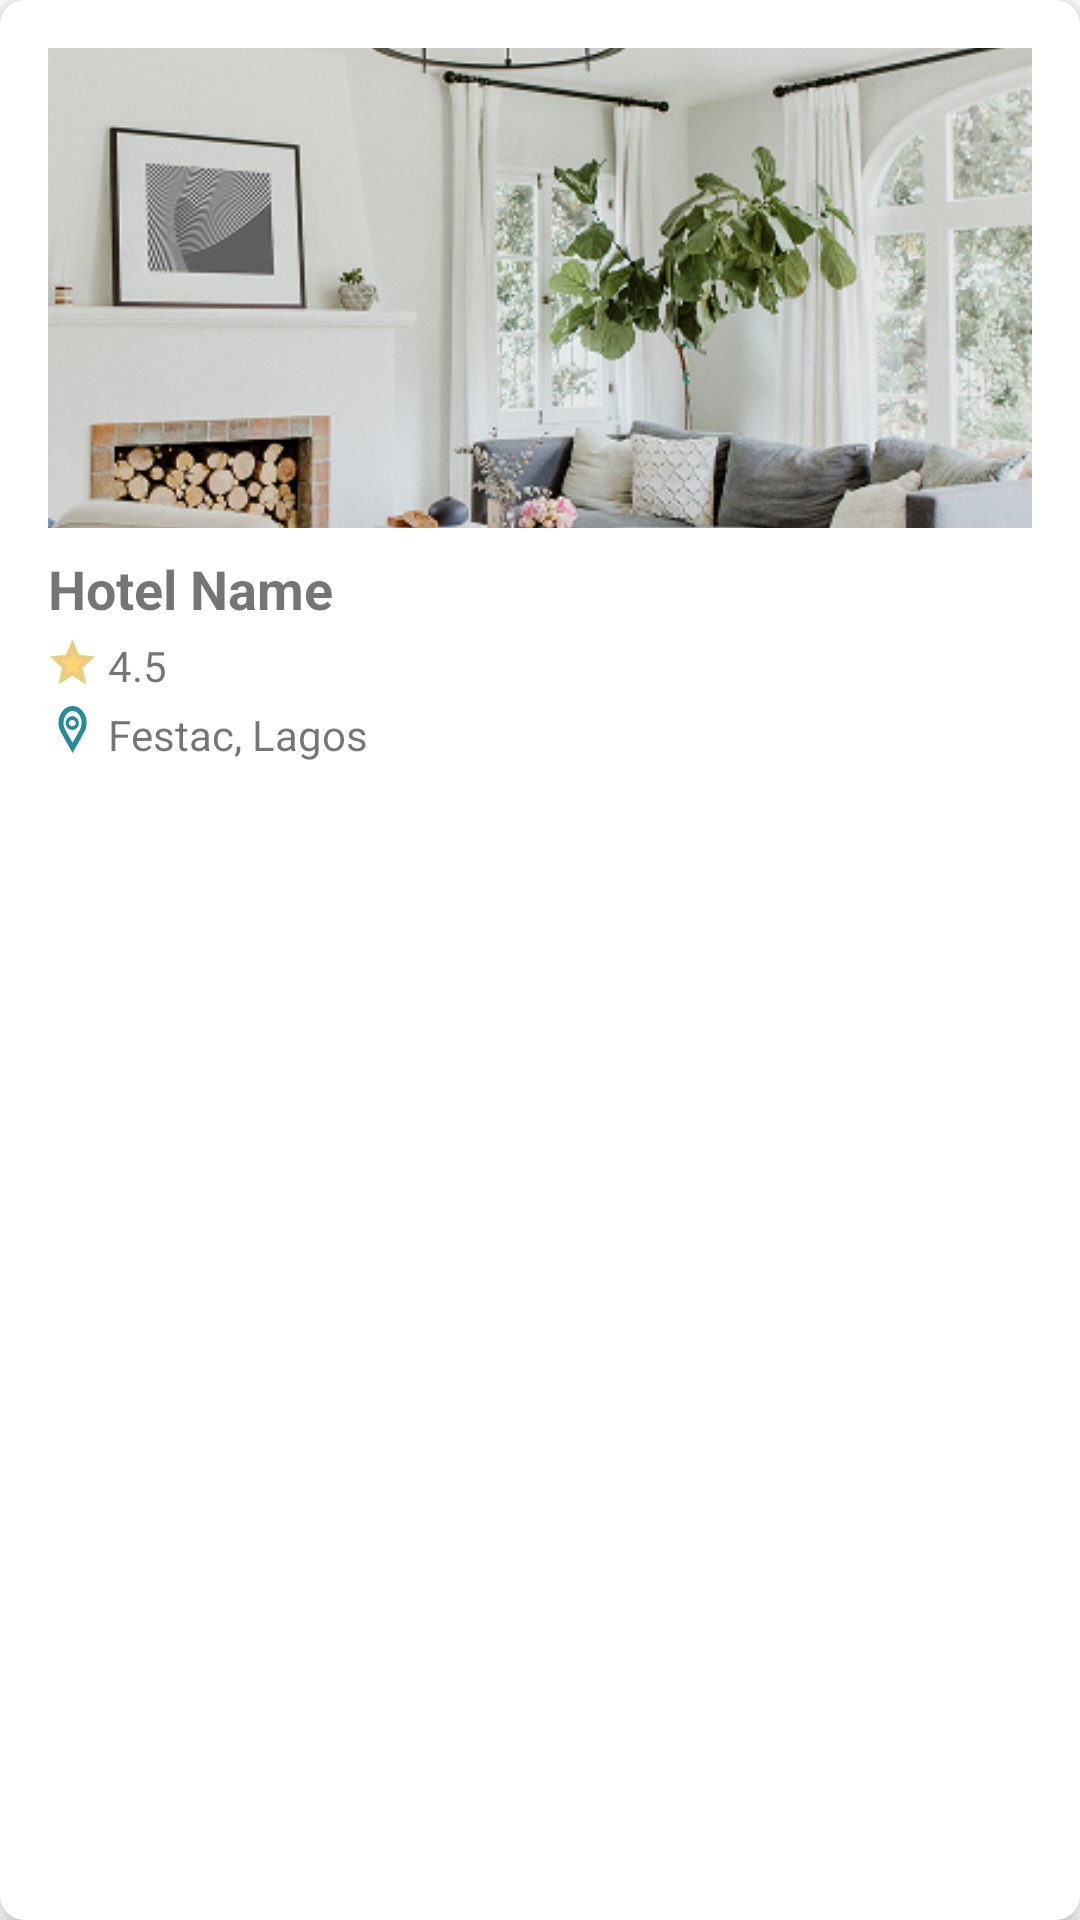

Where to tap for icons on this 1080*1920 app screen, as point (x, y):
star: point (72, 662)
